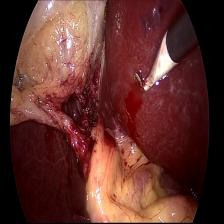Hook: (134, 29, 179, 95)
